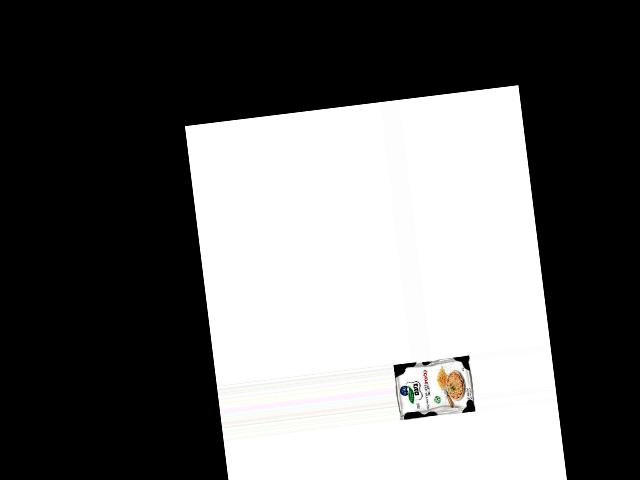cheese: (392, 353, 477, 421)
